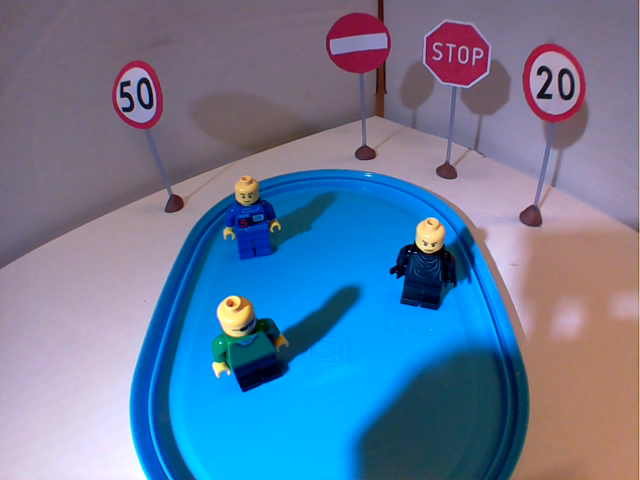Ograniczenie 20: (519, 38, 588, 127)
Ograniczenie 50: (109, 58, 167, 133)
Postac LEGO: (207, 289, 294, 396), (385, 213, 460, 316), (220, 172, 286, 260)
Stop: (419, 15, 494, 92)
Zakaz: (323, 8, 394, 80)
